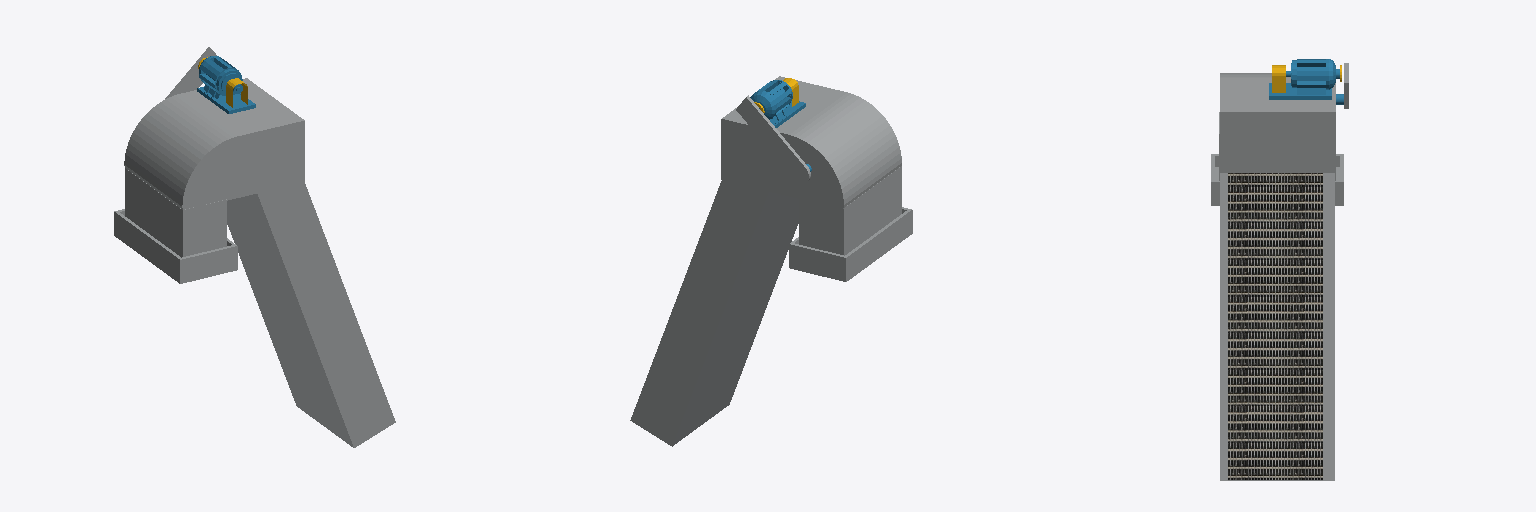
The picture shows the model from 3 angles: view 1: azimuth 30°, elevation 25°; view 2: azimuth 150°, elevation 25°; view 3: azimuth 270°, elevation 25°; orthographic projection.
Visible parts, largest first — view 1: ___.4, __, ___.5, ___.6, ___, __.4; view 2: ___.4, __, ___.5, ___.6; view 3: ___.4, __, ___.6, ___, __.4.
Boxes of the visible parts, x1=… form: ___.4: x1=227, y1=182, x2=395, y2=447; __: x1=124, y1=47, x2=304, y2=209; ___.5: x1=125, y1=168, x2=226, y2=257; ___.6: x1=114, y1=209, x2=237, y2=283; ___: x1=197, y1=78, x2=255, y2=113; __.4: x1=200, y1=57, x2=240, y2=95; ___.4: x1=630, y1=180, x2=798, y2=446; __: x1=721, y1=76, x2=901, y2=209; ___.5: x1=799, y1=166, x2=901, y2=255; ___.6: x1=789, y1=207, x2=912, y2=281; ___.4: x1=1220, y1=173, x2=1334, y2=480; __: x1=1220, y1=59, x2=1348, y2=172; ___.6: x1=1211, y1=154, x2=1343, y2=205; ___: x1=1269, y1=65, x2=1331, y2=99; __.4: x1=1297, y1=59, x2=1325, y2=87.
Bounding box in the file's own units: 989 × 1607 × 536.
Materials: 4 (1 with a texture image).